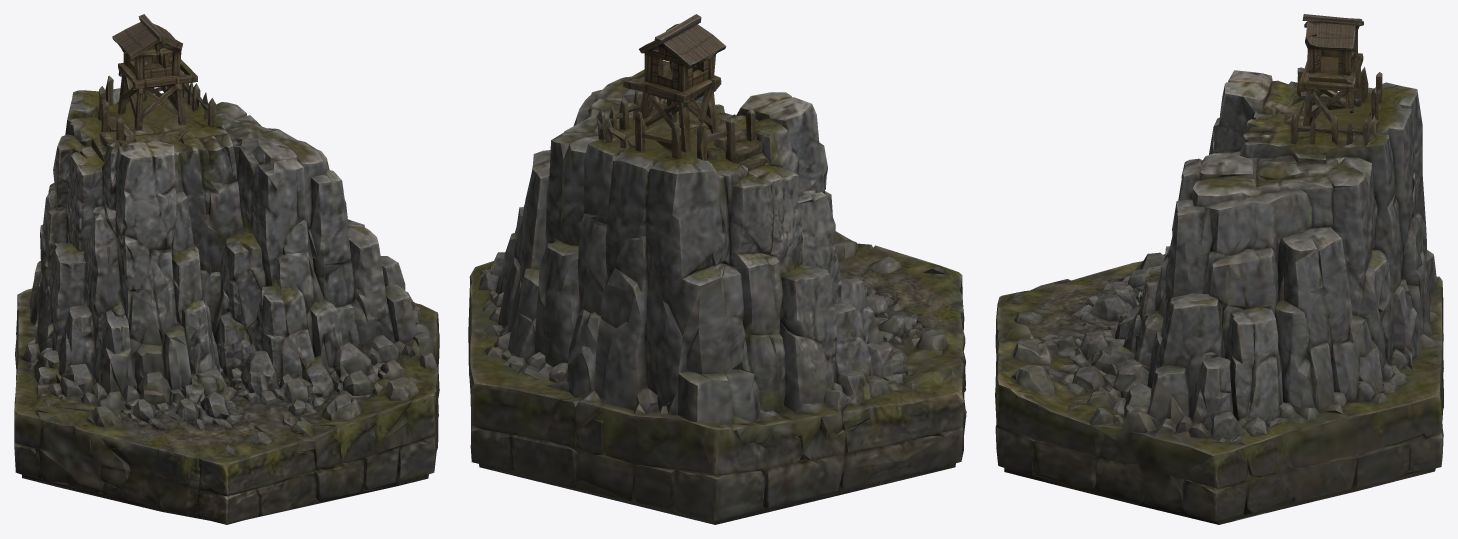
The model's file is cliffs.glb.
The picture shows the model from 3 angles, left to right: view 1: azimuth 30°, elevation 25°; view 2: azimuth 150°, elevation 25°; view 3: azimuth 270°, elevation 25°; orthographic projection. The views are drawn at different scales.
Size of the model in its own units: 2.39 by 2 by 2.07.
Materials: 1 (1 with a texture image).
